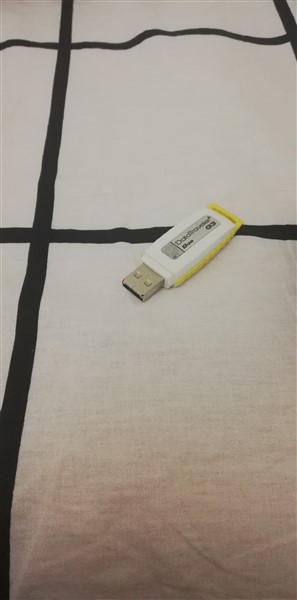flash disk: (114, 198, 252, 307)
